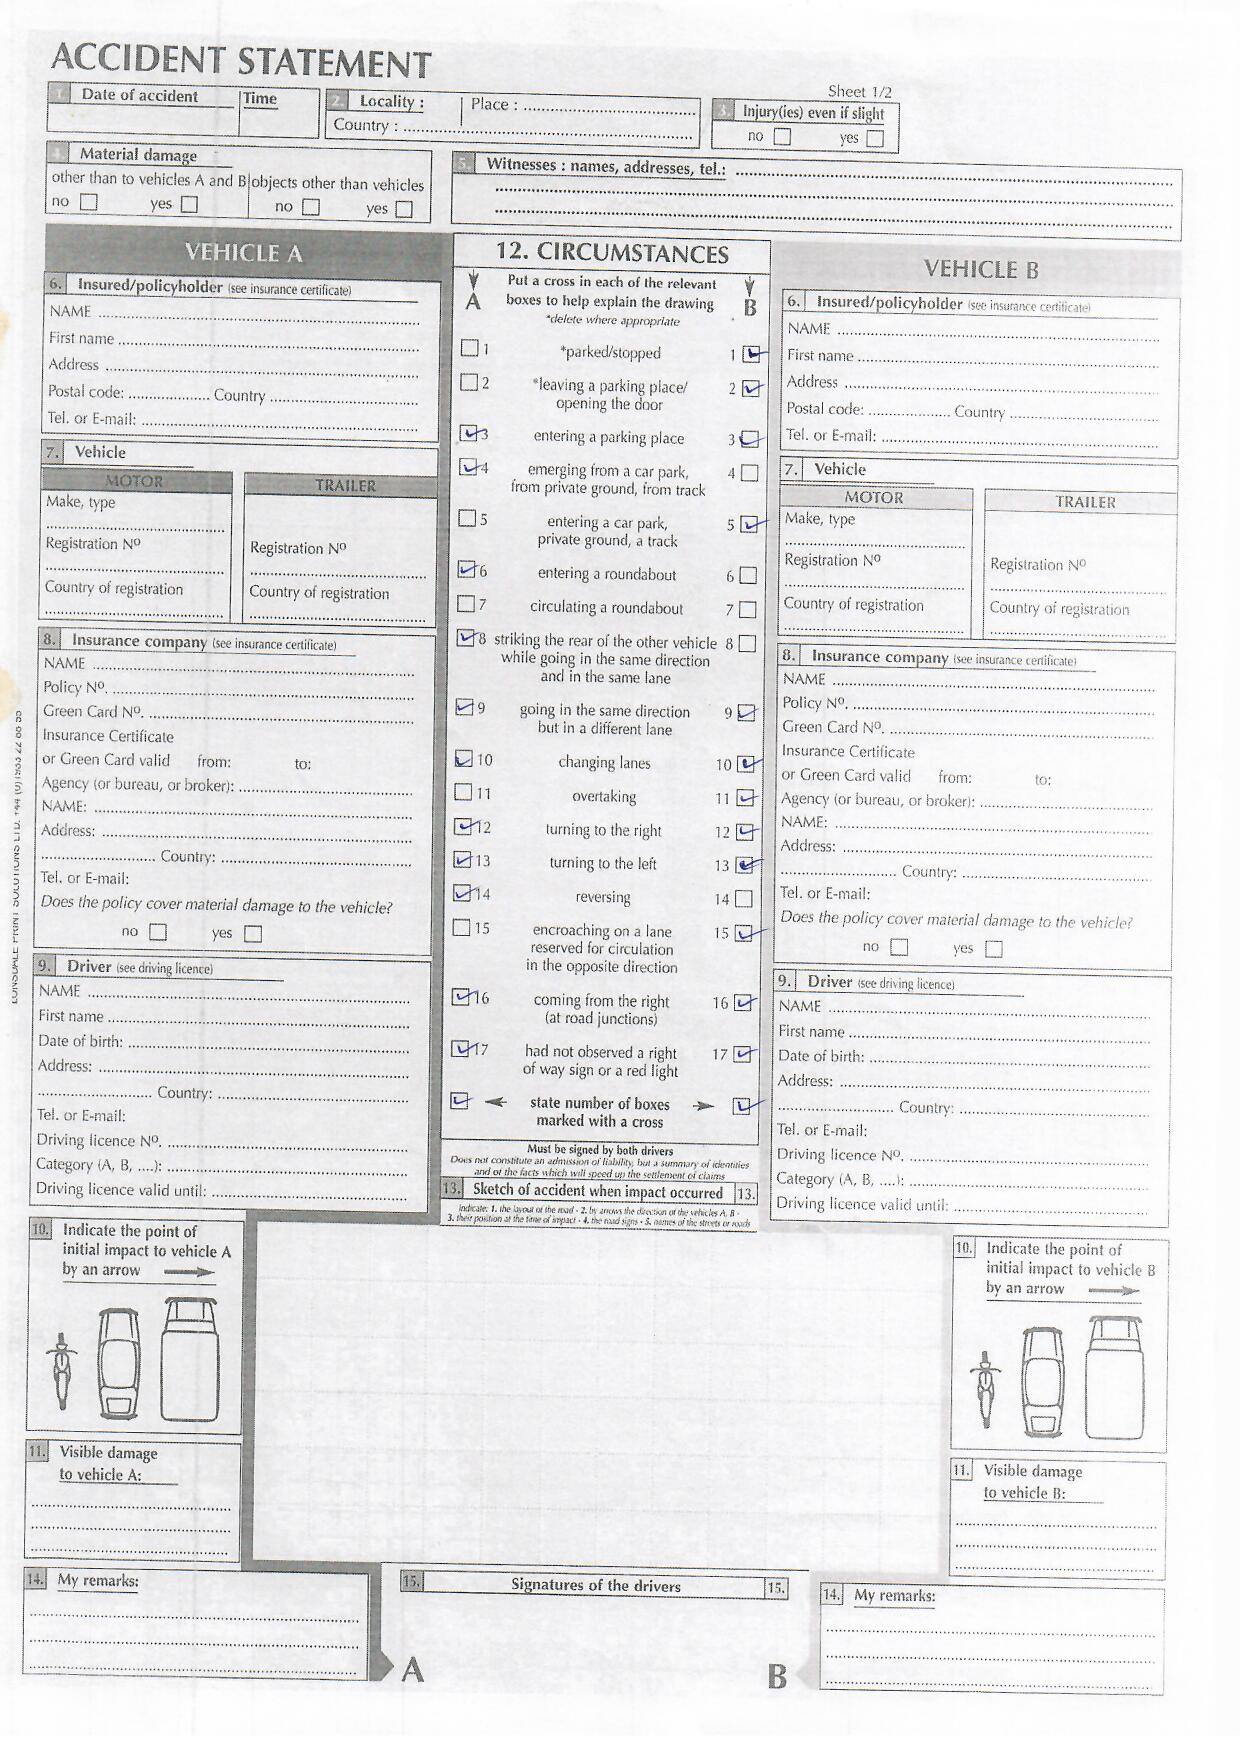a: (731, 752, 760, 779), (735, 511, 762, 538), (454, 454, 480, 481), (450, 847, 476, 872), (730, 921, 757, 946), (733, 783, 758, 809), (731, 851, 756, 879), (727, 1042, 756, 1066), (452, 557, 478, 583), (455, 419, 479, 446), (451, 695, 478, 719), (450, 746, 476, 770), (738, 427, 762, 454), (731, 702, 760, 725), (452, 624, 476, 650), (450, 879, 474, 905), (731, 819, 756, 844), (729, 991, 754, 1015), (447, 1038, 472, 1062), (738, 376, 764, 400), (450, 813, 474, 838), (448, 984, 472, 1008), (737, 344, 764, 365)
